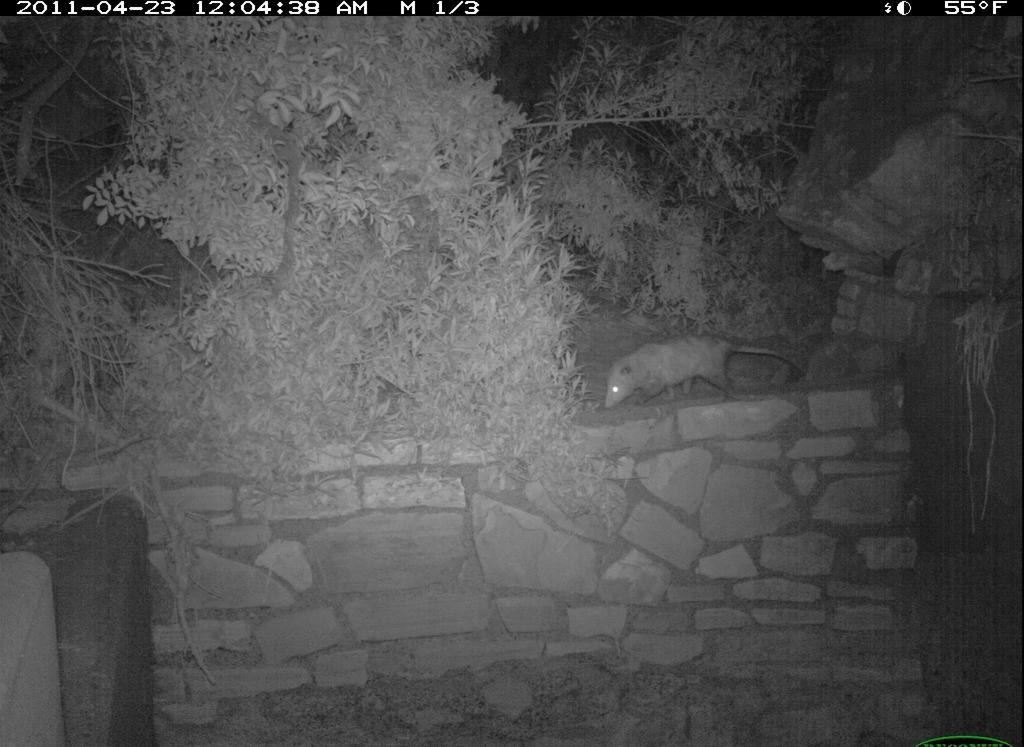opossum: (588, 333, 818, 417)
